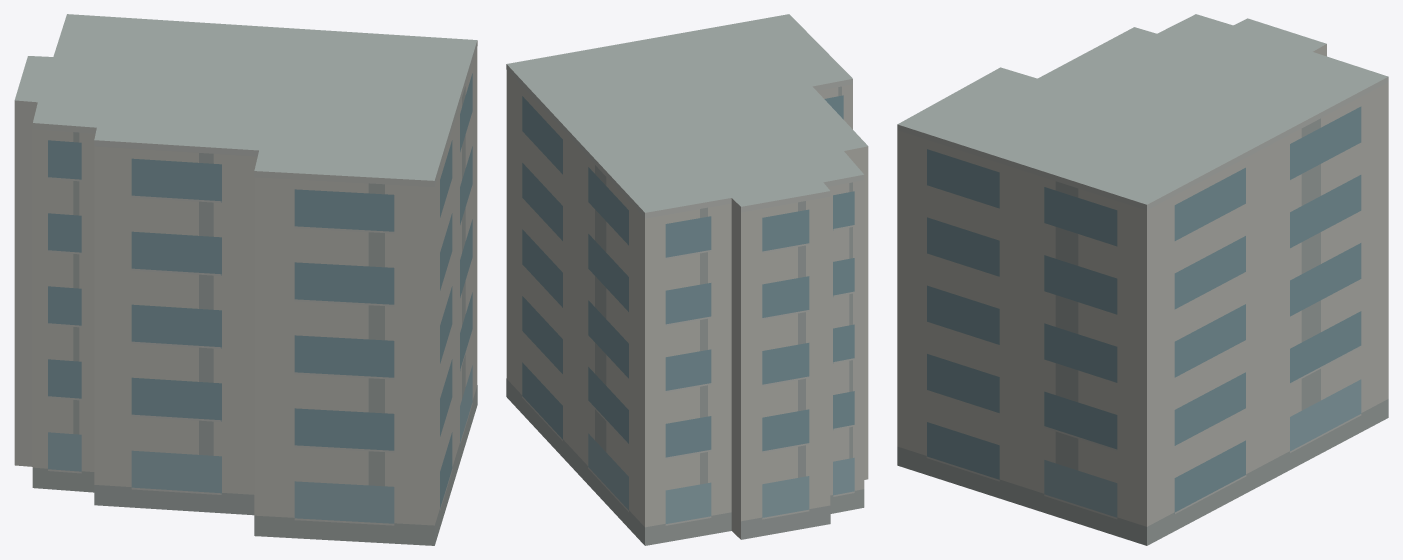
File: survey-upis-32887267.glb
The picture shows the model from 3 angles, left to right: view 1: azimuth 30°, elevation 25°; view 2: azimuth 150°, elevation 25°; view 3: azimuth 270°, elevation 25°; orthographic projection. The views are drawn at different scales.
Parts seen in each view (by area): view 1: survey-upis-32887267.tmp; view 2: survey-upis-32887267.tmp; view 3: survey-upis-32887267.tmp.
Part boxes in pixels (left/top/right/bottom): survey-upis-32887267.tmp: left=14, top=14, right=477, bottom=545; survey-upis-32887267.tmp: left=506, top=14, right=868, bottom=545; survey-upis-32887267.tmp: left=897, top=14, right=1388, bottom=545.
Bounding box in the file's own units: 17.34 × 14.45 × 18.87.
